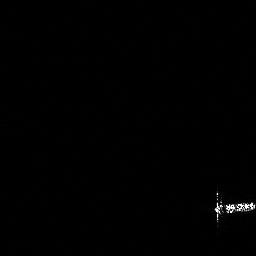ship: (210, 185, 256, 227)
